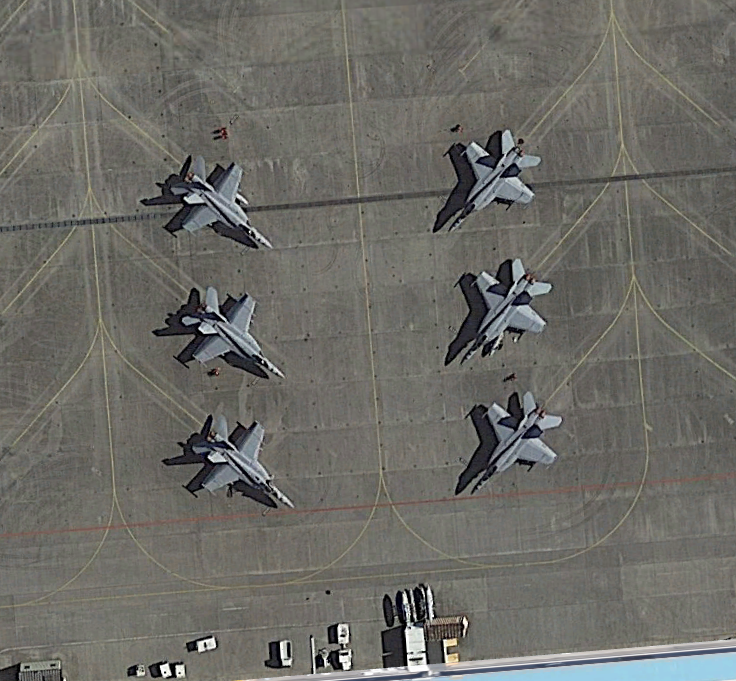A16: (156, 148, 277, 257), (167, 279, 288, 388), (182, 406, 303, 515), (431, 126, 552, 235), (444, 258, 565, 367), (457, 389, 578, 498)
